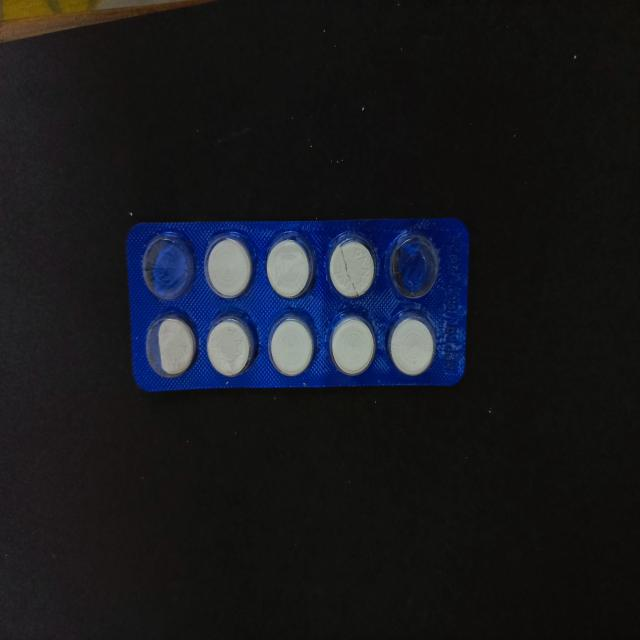defect: (139, 228, 198, 304), (142, 308, 201, 382), (324, 227, 382, 302), (387, 230, 442, 302)
